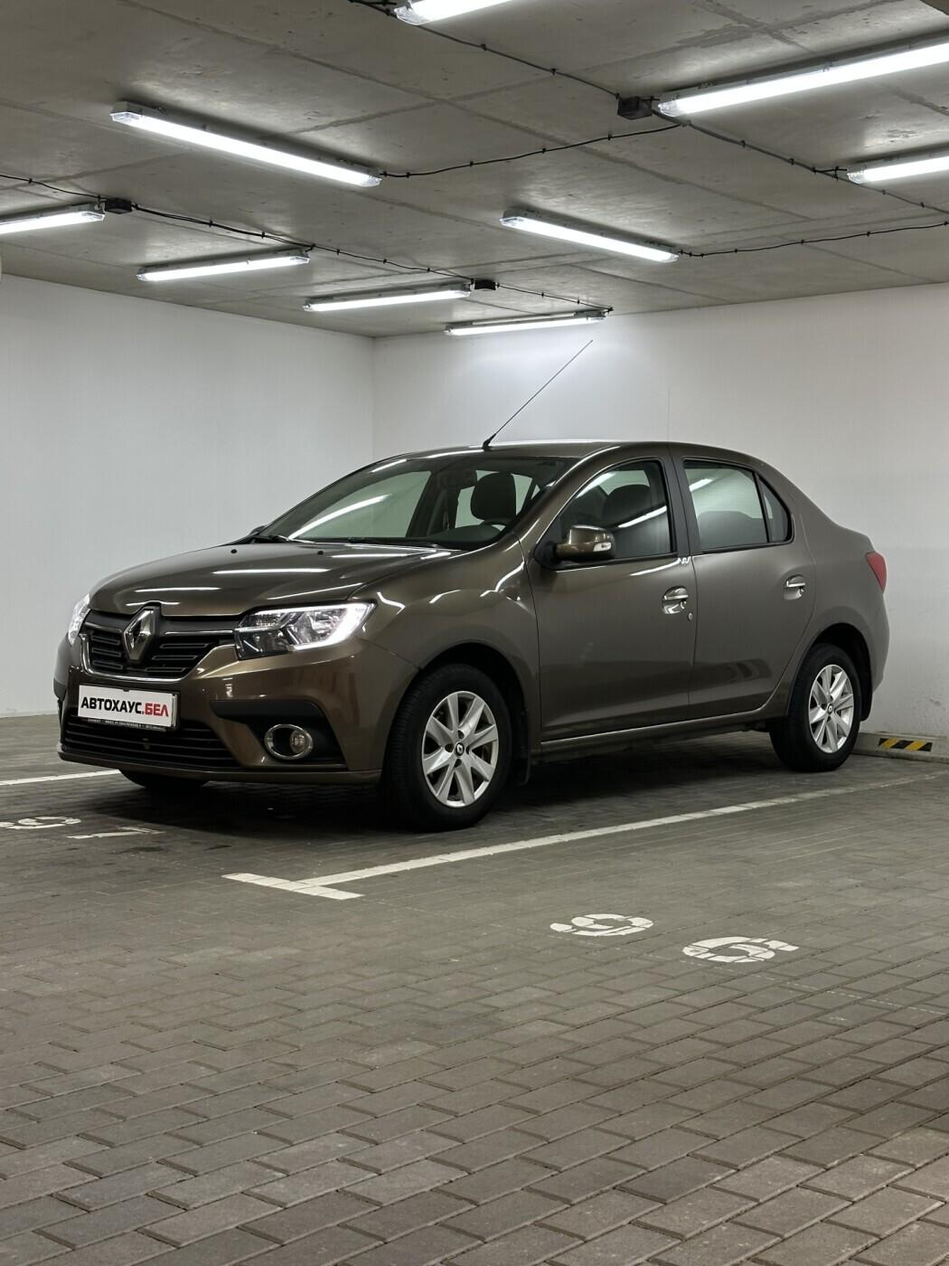Logan_2018: (43, 434, 906, 834)
